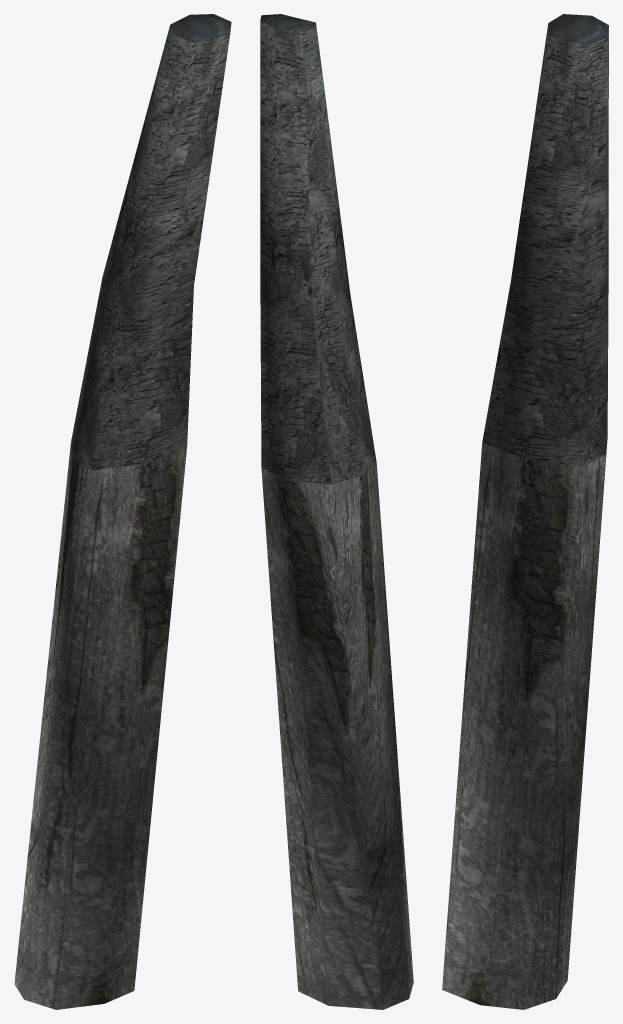
File: prop_wood_debris_big_burnt_02.glb
3 renders of one model, left to right at view 1: azimuth 30°, elevation 25°; view 2: azimuth 150°, elevation 25°; view 3: azimuth 330°, elevation 25°, orthographic. The views are drawn at different scales.
Bounding box in the file's own units: 28.6 × 145 × 17.82.
Materials: 4 (4 with a texture image).
